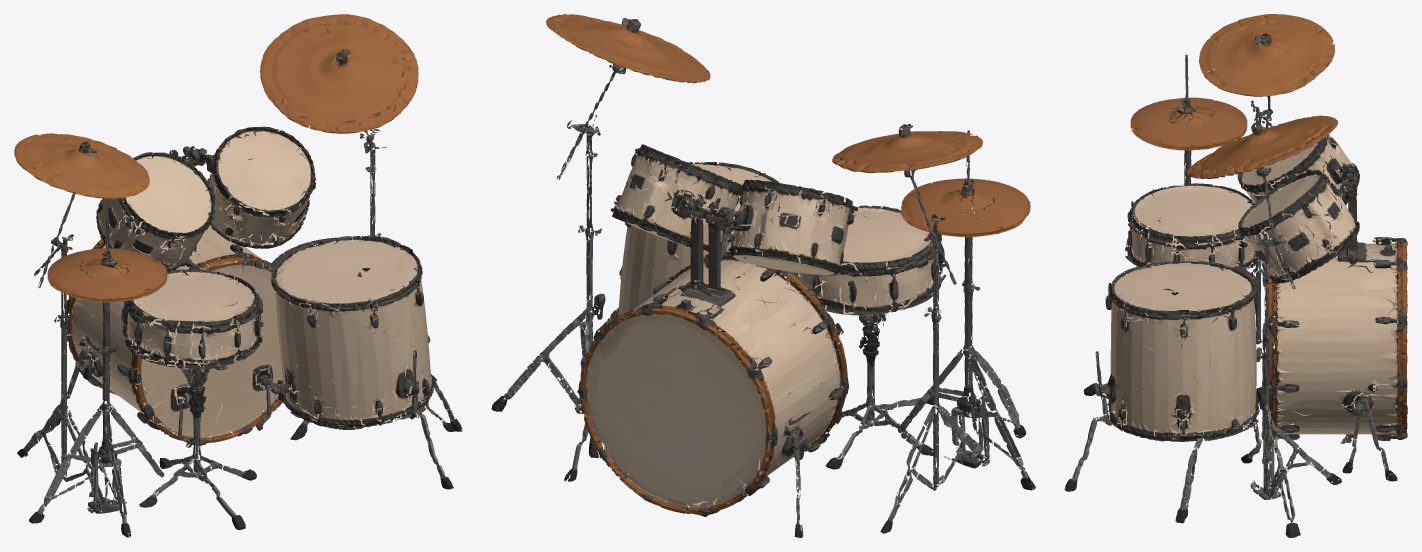
Rendered from drumkit_v219.glb.
The picture shows the model from 3 angles, left to right: view 1: azimuth 30°, elevation 25°; view 2: azimuth 150°, elevation 25°; view 3: azimuth 270°, elevation 25°; orthographic projection. The views are drawn at different scales.
Visible parts, largest first — view 1: world; view 2: world; view 3: world.
Boxes of the visible parts, x1,y1,x2,y2 form: world: [14, 14, 462, 537]; world: [491, 14, 1035, 537]; world: [1064, 14, 1407, 537].
Bounding box in the file's own units: 1.9 × 1.5 × 1.28.
Materials: 1 (1 with a texture image).
